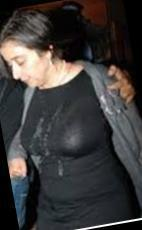Drunk: (2, 43, 53, 89)
